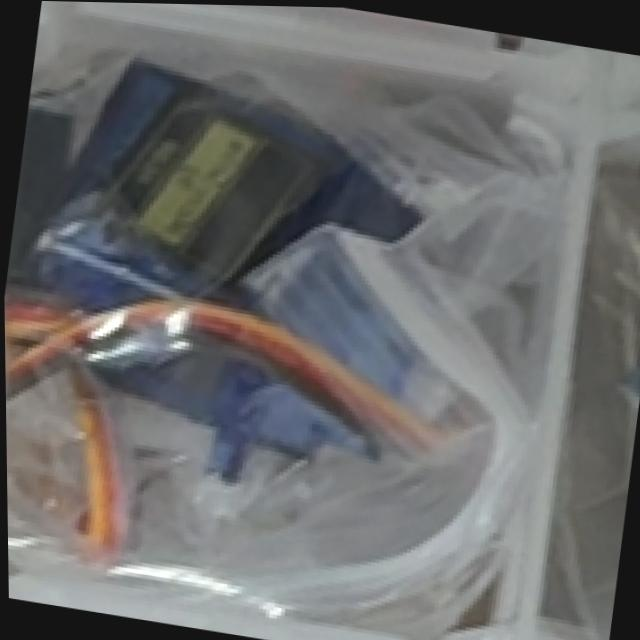Servo motor: (1, 37, 490, 525)
